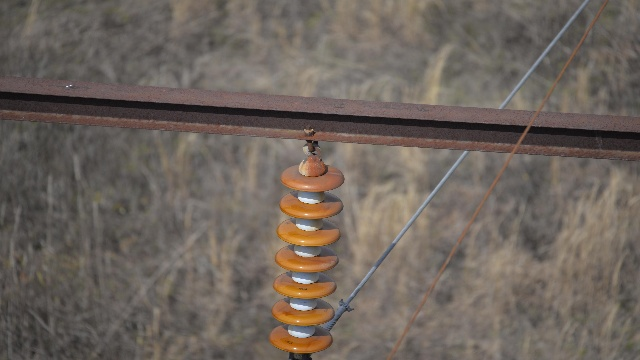insulator_unspecified: (267, 163, 346, 354)
